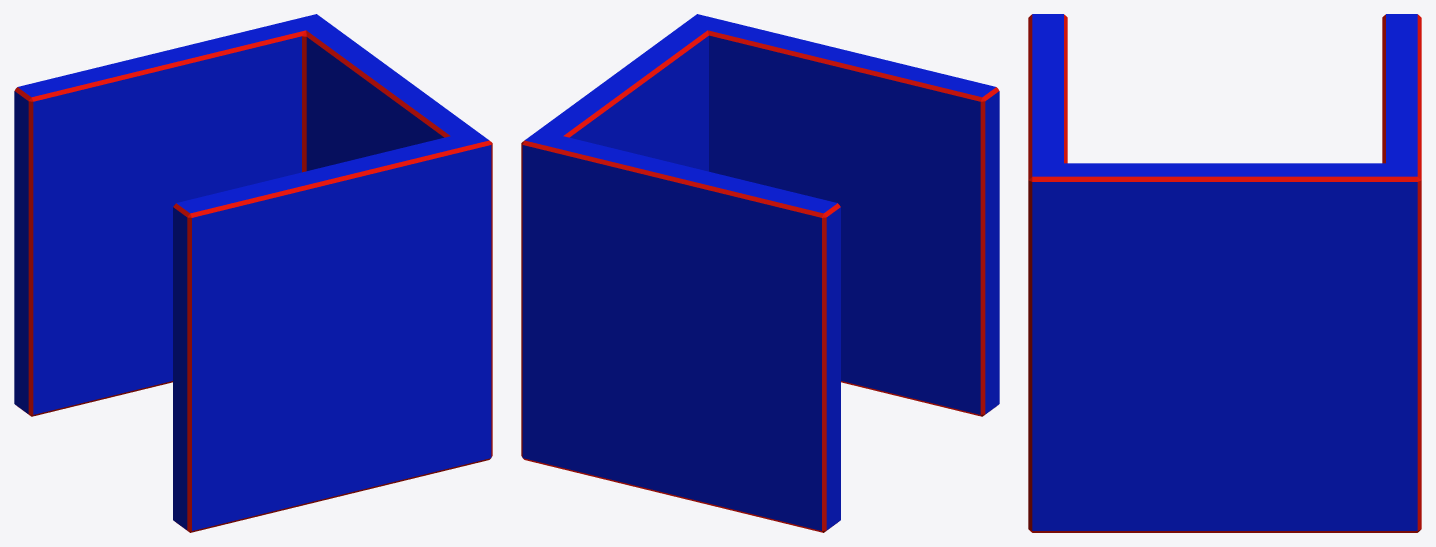
Rendered from L9_InnerCube_Wall.fbx.
3 renders of one model, left to right at view 1: azimuth 30°, elevation 25°; view 2: azimuth 150°, elevation 25°; view 3: azimuth 270°, elevation 25°, orthographic. The views are drawn at different scales.
Parts seen in each view (by area): view 1: L9_InnerCube_Wall; view 2: L9_InnerCube_Wall; view 3: L9_InnerCube_Wall.
Part boxes in pixels (x1,y1,x2,y2): L9_InnerCube_Wall: (14,14,492,532); L9_InnerCube_Wall: (521,14,999,532); L9_InnerCube_Wall: (1028,14,1421,532).
Size of the model in its own units: 250 by 250 by 250.
